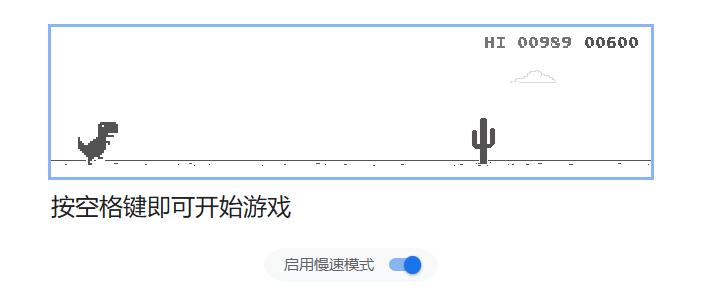cactus: (470, 117, 496, 167)
dino: (75, 120, 119, 166)
